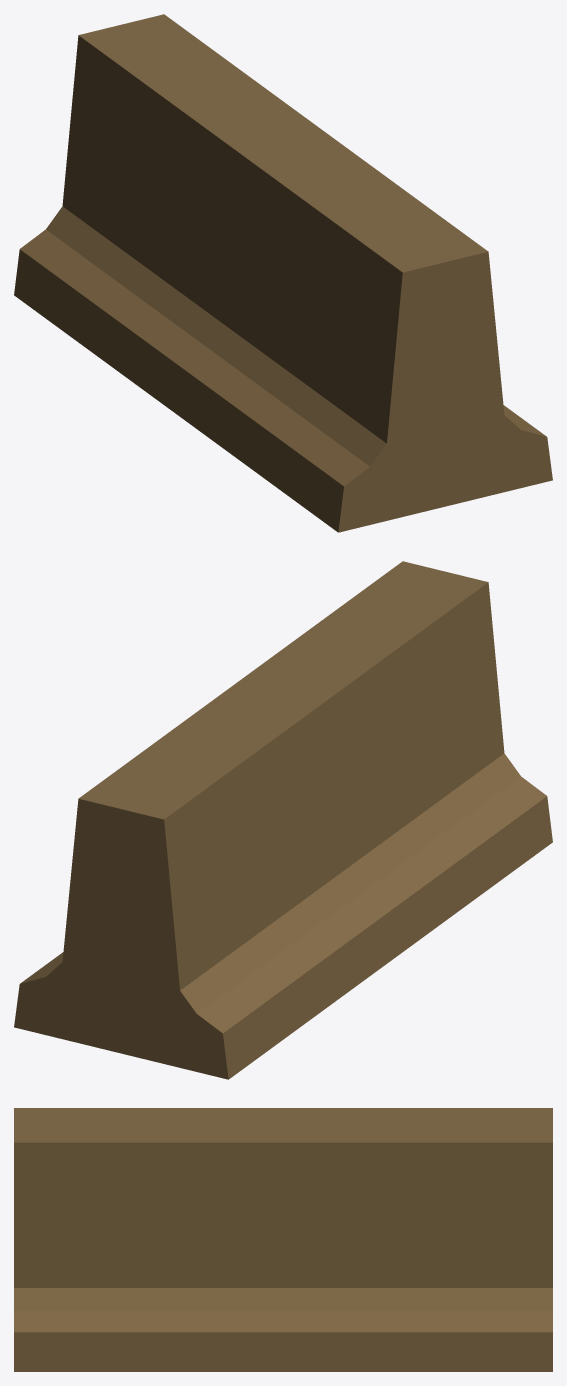
Rendered from concrete_block.FBX.
3 renders of one model, top to bottom at view 1: azimuth 30°, elevation 25°; view 2: azimuth 150°, elevation 25°; view 3: azimuth 270°, elevation 25°, orthographic. The views are drawn at different scales.
Visible parts, largest first — view 1: Box1400; view 2: Box1400; view 3: Box1400.
Part boxes in pixels (box(x1,y1,x2,y2)): Box1400: box(14, 14, 552, 532); Box1400: box(14, 561, 552, 1079); Box1400: box(14, 1108, 552, 1371).
Bounding box in the file's own units: 2.5 × 2.72 × 6.54.
